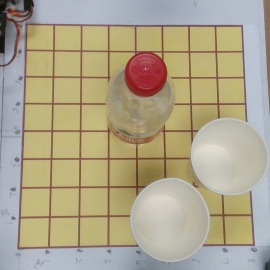bottle: (99, 49, 175, 151)
cup: (123, 175, 210, 263), (179, 118, 269, 197)
